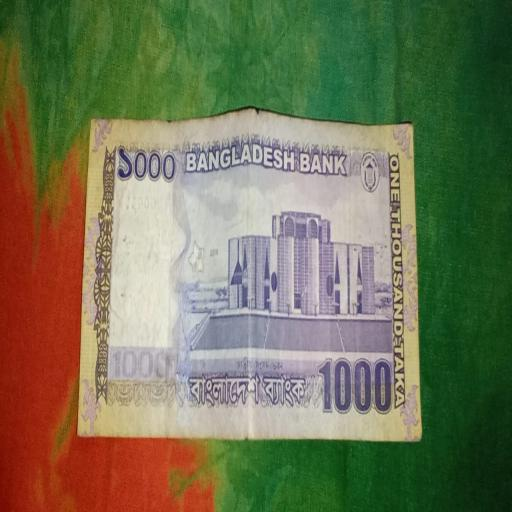1000taka: (76, 112, 419, 442)
